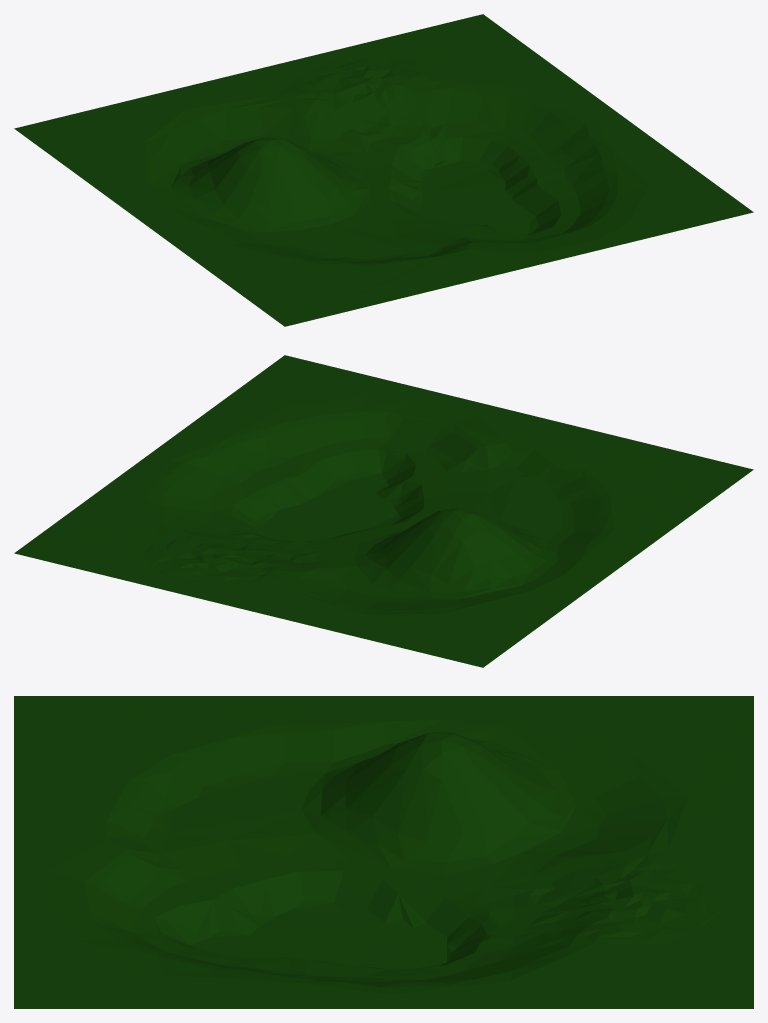
The model's file is Terrain_Part_Plane_3.fbx.
3 views of the same model, one above another, from view 1: azimuth 30°, elevation 25°; view 2: azimuth 150°, elevation 25°; view 3: azimuth 270°, elevation 25° (orthographic). The views are drawn at different scales.
Visible parts, largest first — view 1: Terrain_Part_Plane_3; view 2: Terrain_Part_Plane_3; view 3: Terrain_Part_Plane_3.
Part boxes in pixels (left/top/right/bottom): Terrain_Part_Plane_3: left=14, top=14, right=753, bottom=326; Terrain_Part_Plane_3: left=14, top=355, right=753, bottom=667; Terrain_Part_Plane_3: left=14, top=696, right=753, bottom=1008.
Size of the model in its own units: 2000 by 285 by 2000.
